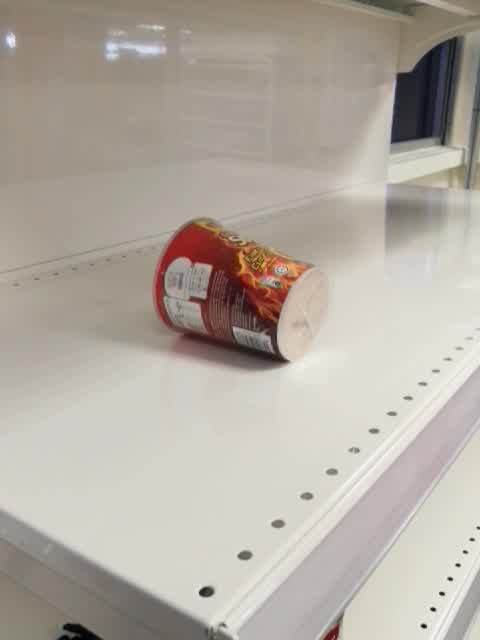maggi: (150, 215, 333, 365)
